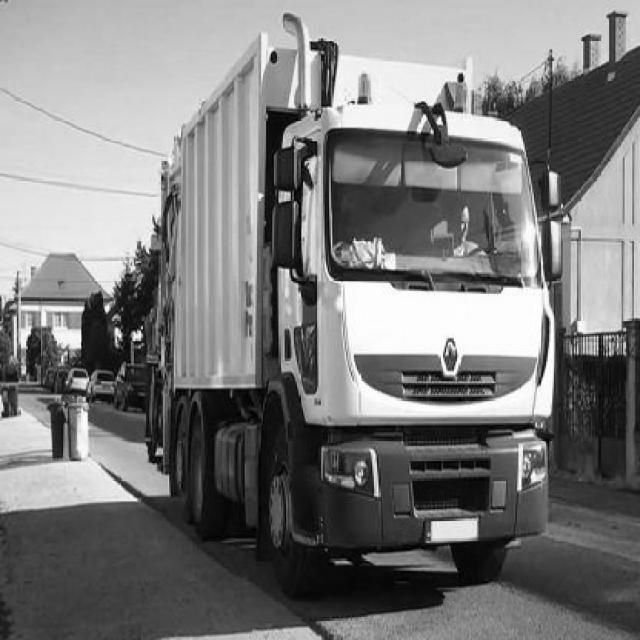Garbage Truck: (147, 14, 569, 600)
